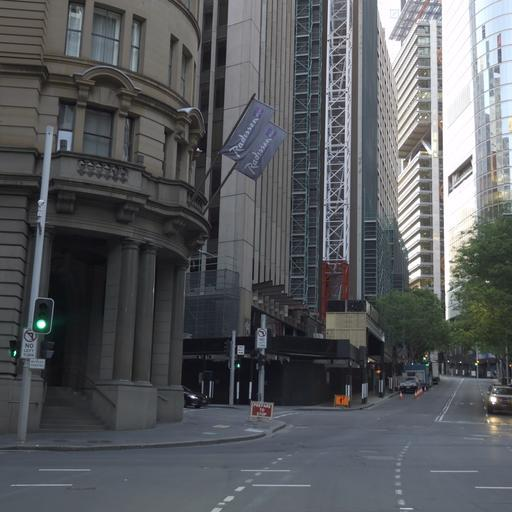Street light: (14, 124, 56, 443), (176, 105, 207, 156), (32, 296, 54, 334), (8, 339, 18, 358), (474, 359, 479, 378), (234, 359, 240, 368)
